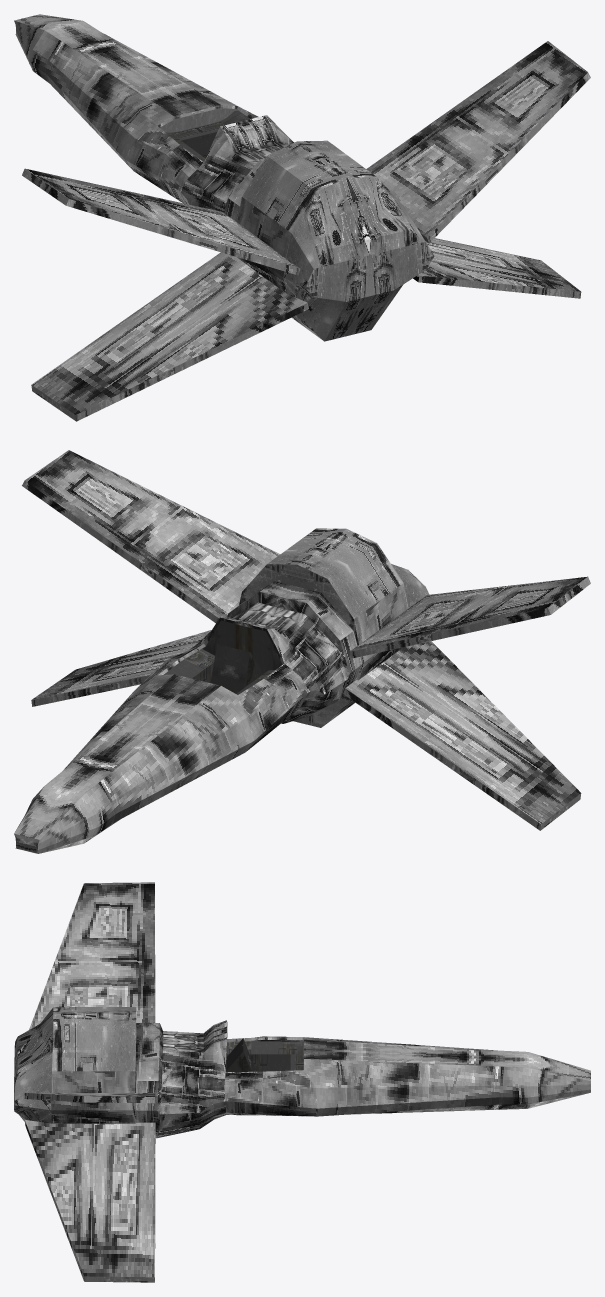
The model's file is ship.glb.
3 renders of one model, top to bottom at view 1: azimuth 30°, elevation 25°; view 2: azimuth 150°, elevation 25°; view 3: azimuth 270°, elevation 25°, orthographic. The views are drawn at different scales.
Parts seen in each view (by area): view 1: XWing; view 2: XWing; view 3: XWing.
Boxes of the visible parts, box(x1,y1,x2,y2) form: XWing: box(14, 14, 590, 421); XWing: box(14, 450, 590, 853); XWing: box(14, 882, 590, 1282).
Size of the model in its own units: 1.9 by 0.7724 by 2.14.
Materials: 1 (1 with a texture image).
